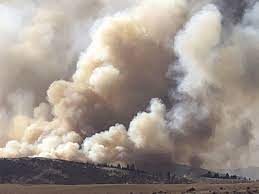smoke: (1, 1, 259, 159)
